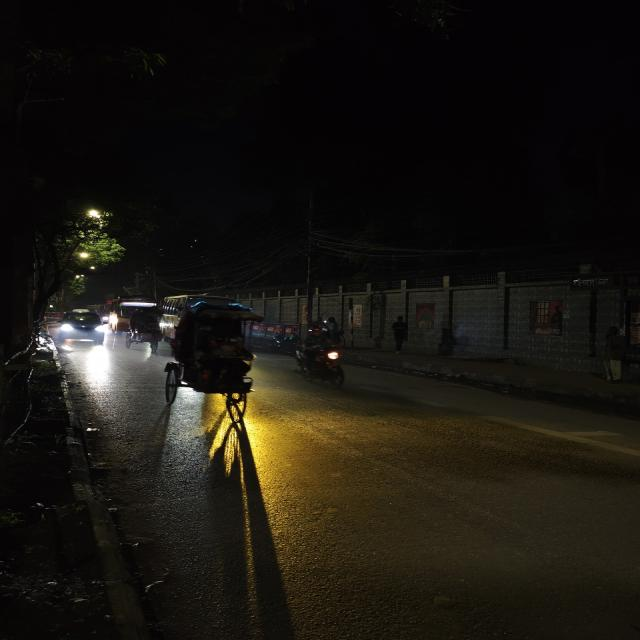car: (58, 307, 108, 345)
motorcycle: (290, 324, 354, 390)
pedestrian: (592, 322, 639, 383), (385, 315, 413, 354)
rickshaw: (166, 300, 267, 408), (124, 306, 170, 350)
